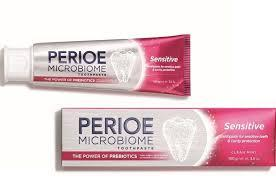toothpaste: (1, 33, 200, 100)
